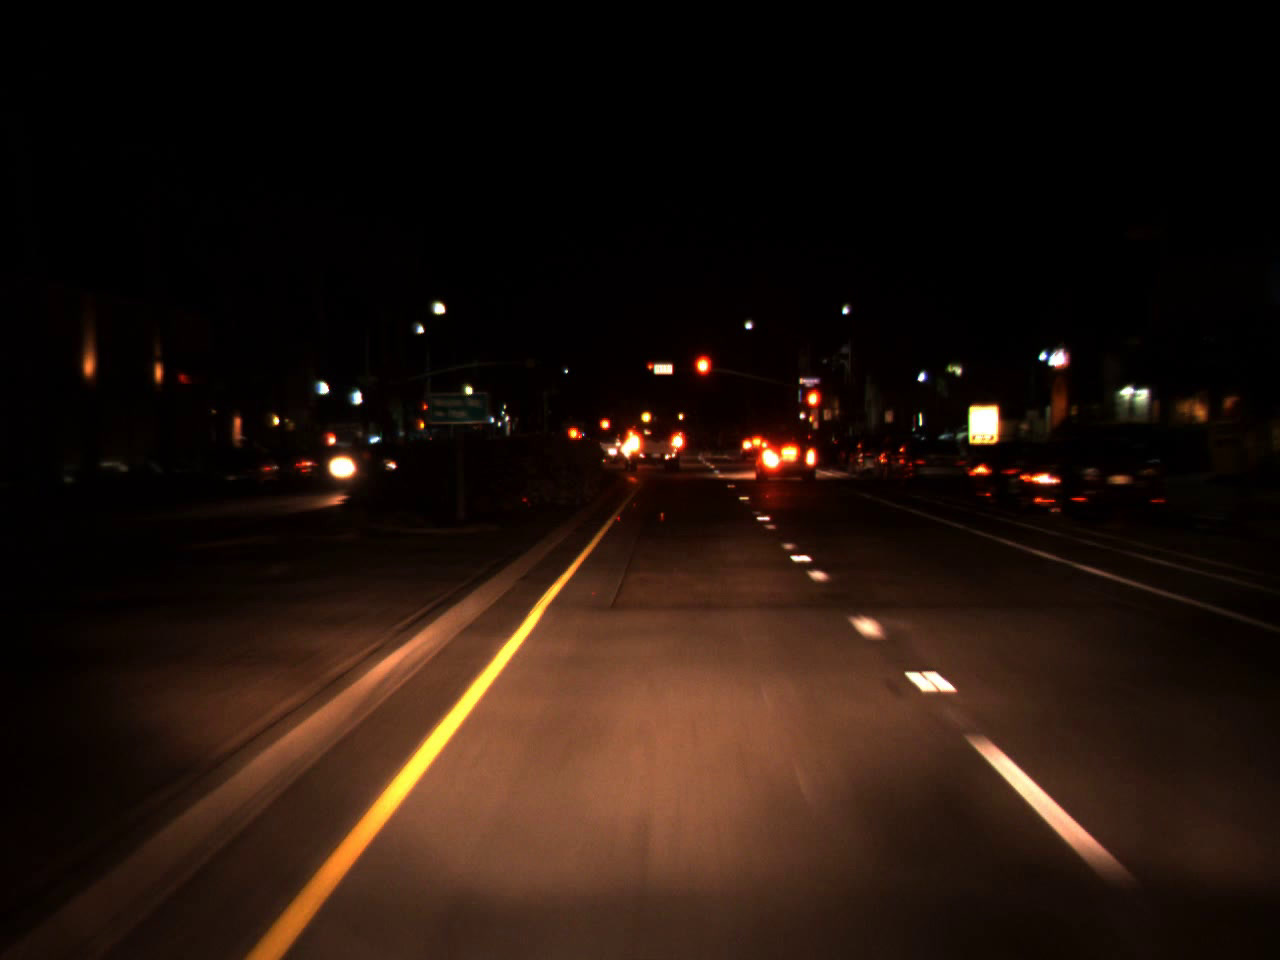stop: (692, 352, 713, 397), (803, 385, 822, 430), (646, 362, 655, 378), (422, 404, 428, 414)
